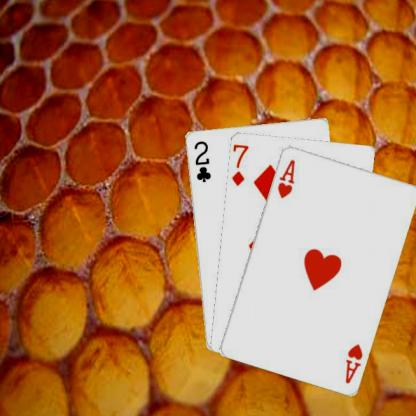2C: (191, 138, 212, 184)
7D: (229, 141, 250, 187)
AH: (274, 156, 297, 200), (342, 341, 364, 385)
